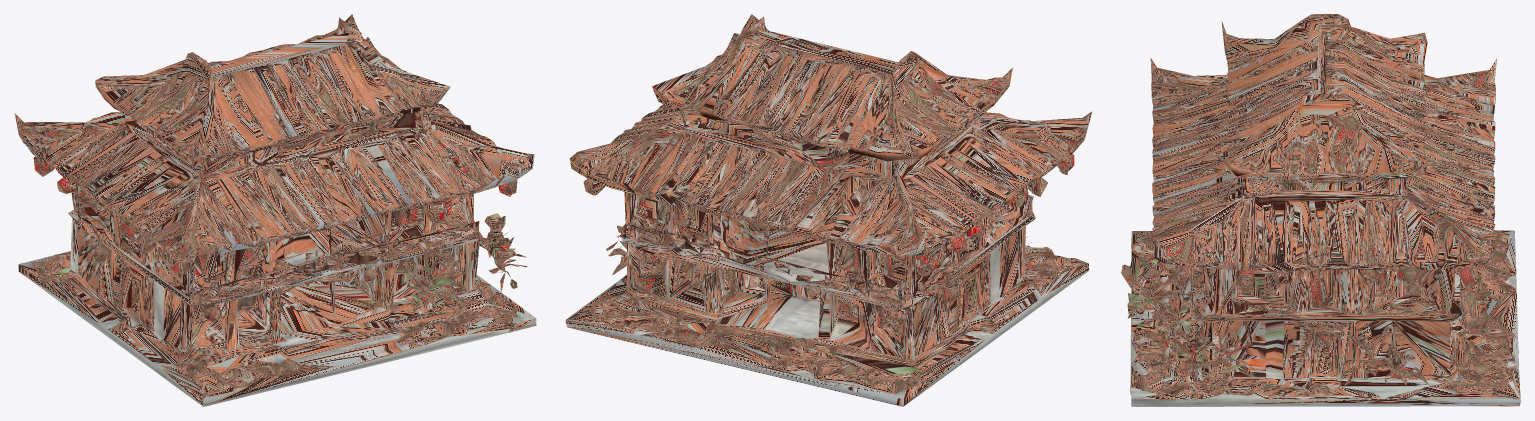
The model's file is bq_yamen.lod.glb.
3 views of the same model, side by side, from view 1: azimuth 30°, elevation 25°; view 2: azimuth 150°, elevation 25°; view 3: azimuth 270°, elevation 25° (orthographic). The views are drawn at different scales.
Size of the model in its own units: 1.89 by 1.28 by 1.72.
Materials: 1 (1 with a texture image).
